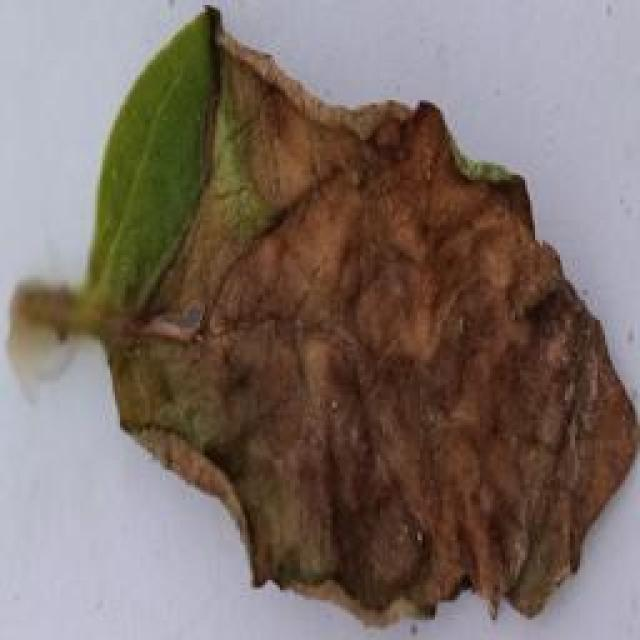Potato_Late_Blight: (5, 8, 623, 627)
